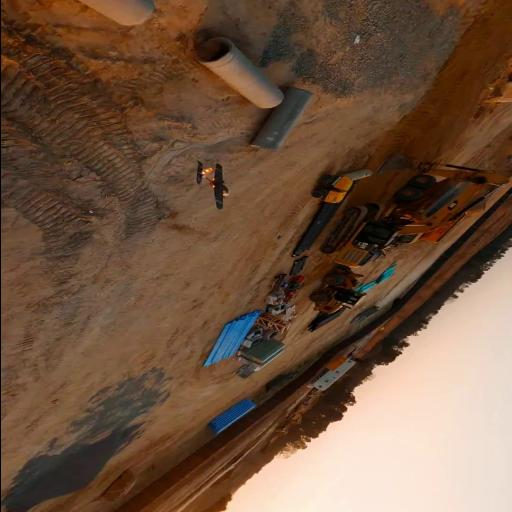uav: (191, 159, 231, 209)
